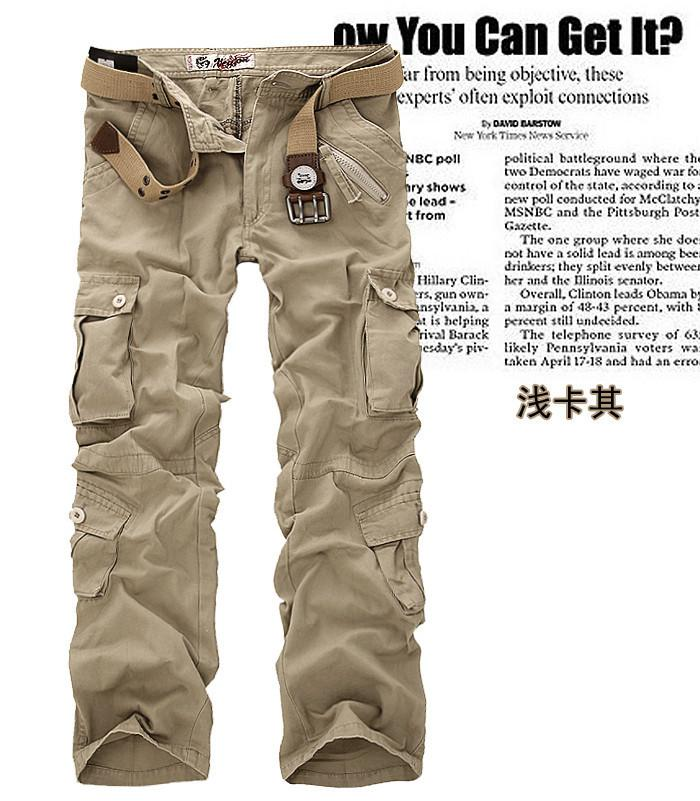pants: (74, 47, 426, 774)
